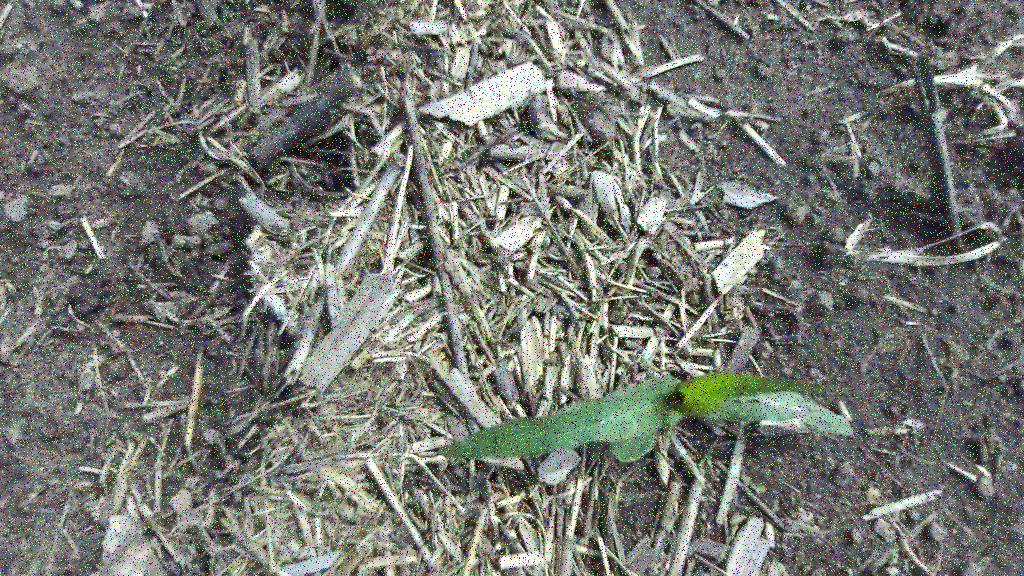BroWeed: (987, 426, 1006, 453), (747, 476, 770, 497), (287, 188, 307, 208), (167, 54, 186, 74), (102, 429, 119, 448), (866, 488, 883, 505), (740, 466, 751, 484), (708, 191, 720, 204), (129, 430, 143, 441), (937, 355, 949, 367), (890, 550, 900, 564), (312, 494, 323, 506), (692, 69, 703, 81), (626, 160, 639, 170), (902, 558, 909, 573), (706, 454, 713, 466), (963, 400, 974, 407), (906, 275, 917, 282), (649, 244, 657, 251), (586, 322, 591, 332)
Maize: (431, 353, 875, 483)
